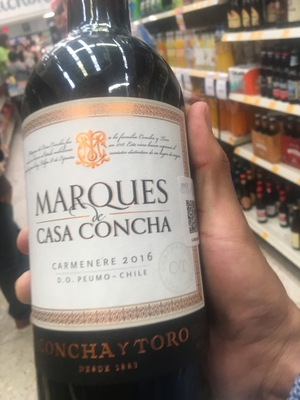marques de casa concha carmenere: (17, 15, 218, 394)
